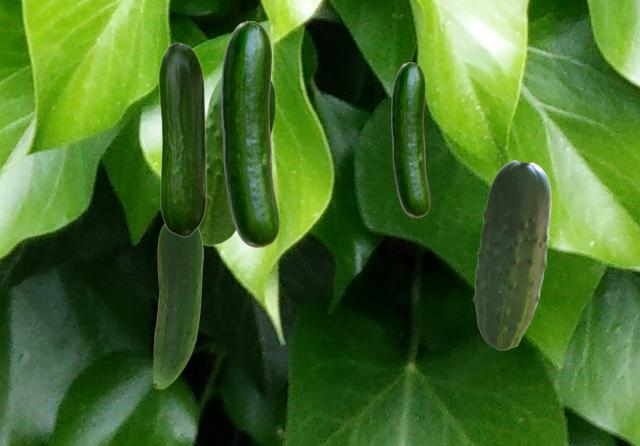cucumber: (473, 160, 550, 349), (221, 21, 278, 246), (200, 77, 274, 245), (158, 42, 206, 236), (153, 224, 202, 388), (391, 62, 429, 216)
